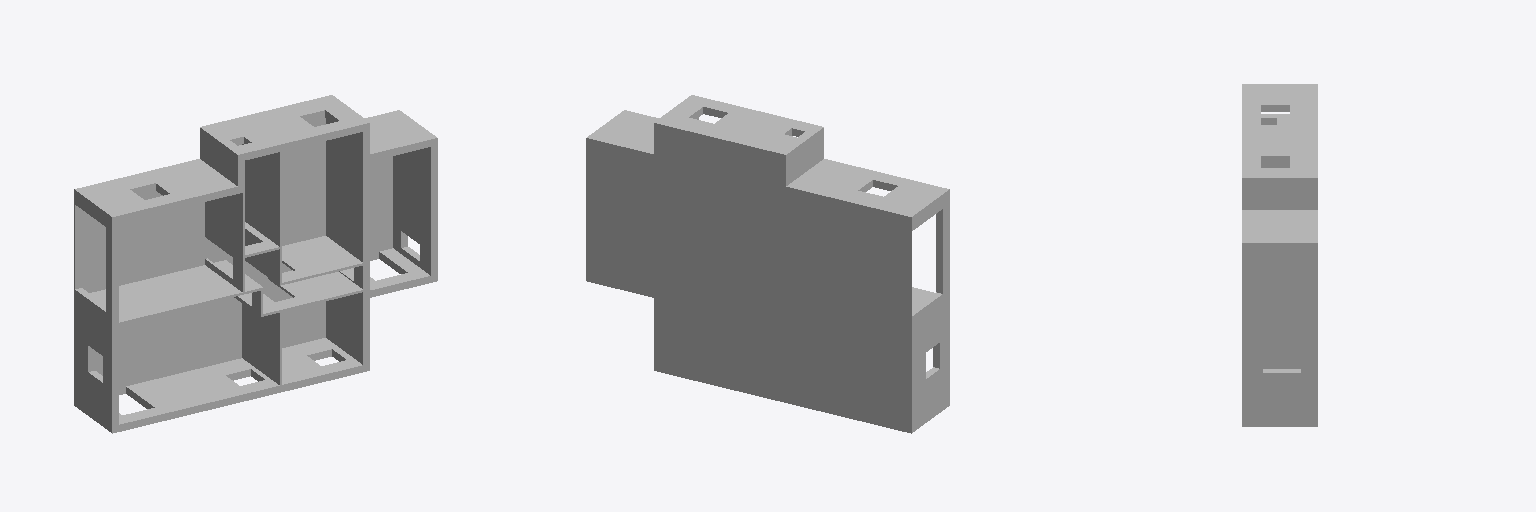
The model's file is master.obj.
3 views of the same model, side by side, from view 1: azimuth 30°, elevation 25°; view 2: azimuth 150°, elevation 25°; view 3: azimuth 270°, elevation 25° (orthographic).
Bounding box in the file's own units: 28 × 20.4 × 5.7.